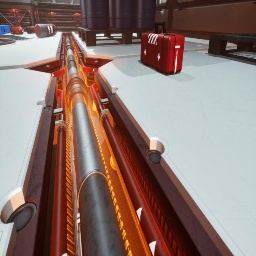FireExtinguisher ]: (10, 26, 27, 35), (26, 26, 35, 34), (18, 25, 22, 28)
FirstAidBox ,: (140, 21, 185, 75)
NitrogenTank ,: (34, 24, 57, 38)
